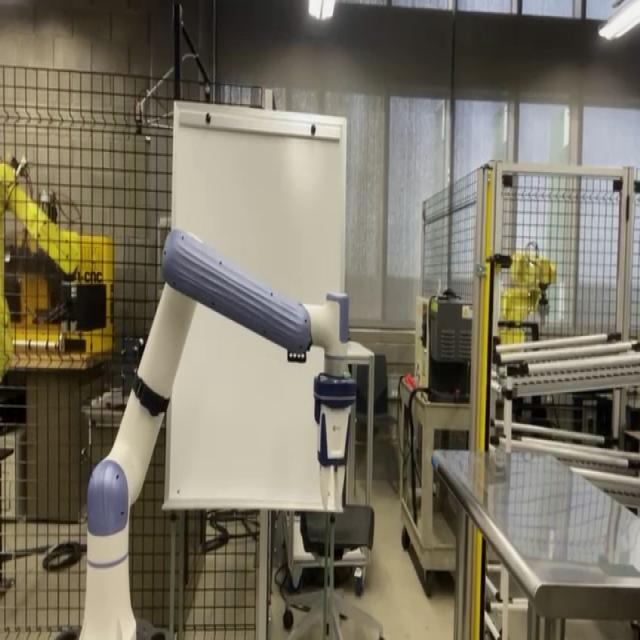robot: (53, 225, 380, 639)
